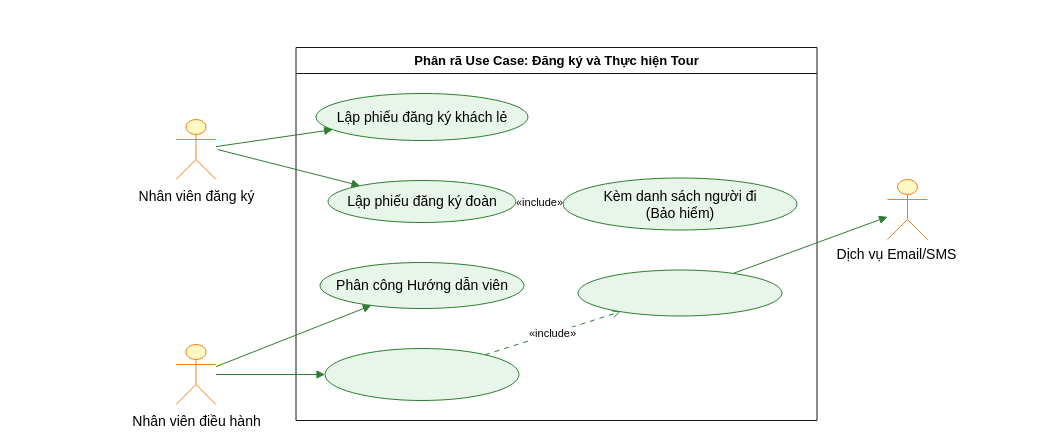
This 1061x447 diagram has some shape labels left out. The shapes that lost their labels are listed below. From the top down, each one's centre as x and y in pixels, then its label:
At (x=679, y=292): "Gửi phiếu khảo sát tự động".
At (x=421, y=374): "Xử lý kết thúc Tour & Thanh toán".
